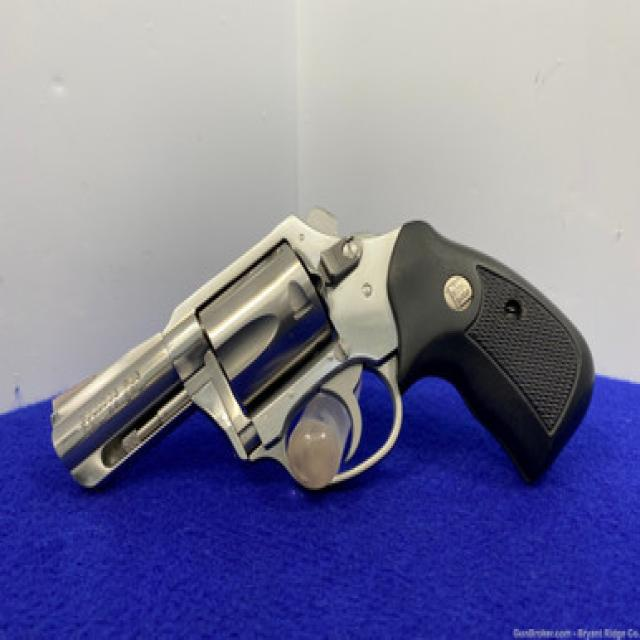Gun: (43, 172, 614, 559)
